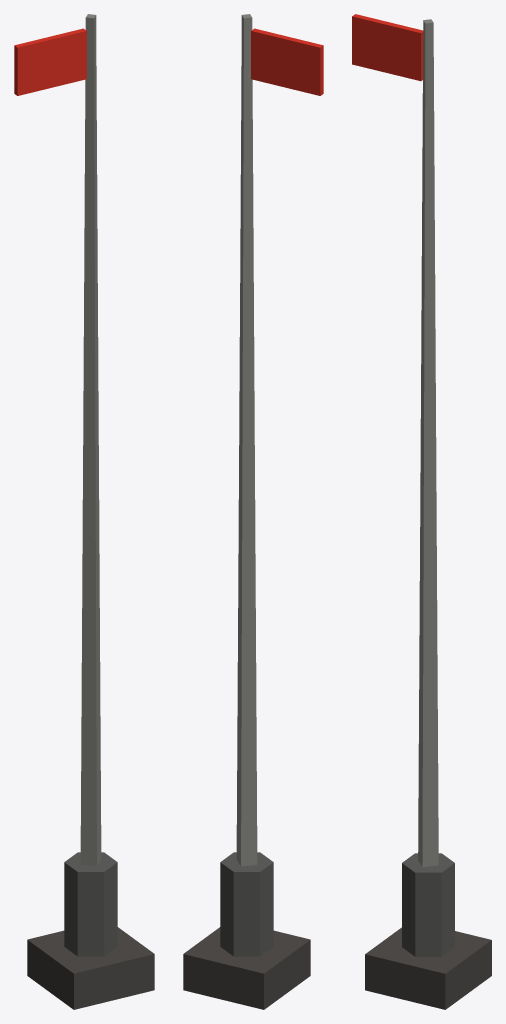
The model's file is antenna.glb.
The picture shows the model from 3 angles, left to right: view 1: azimuth 30°, elevation 25°; view 2: azimuth 150°, elevation 25°; view 3: azimuth 330°, elevation 25°; orthographic projection.
Visible parts, largest first — view 1: antenna; view 2: antenna; view 3: antenna.
Boxes of the visible parts, bbox=[...] form: antenna: bbox=[14, 14, 154, 1009]; antenna: bbox=[183, 14, 323, 1009]; antenna: bbox=[352, 14, 491, 1009].
Bounding box in the file's own units: 0.2 × 1.6 × 0.14.
